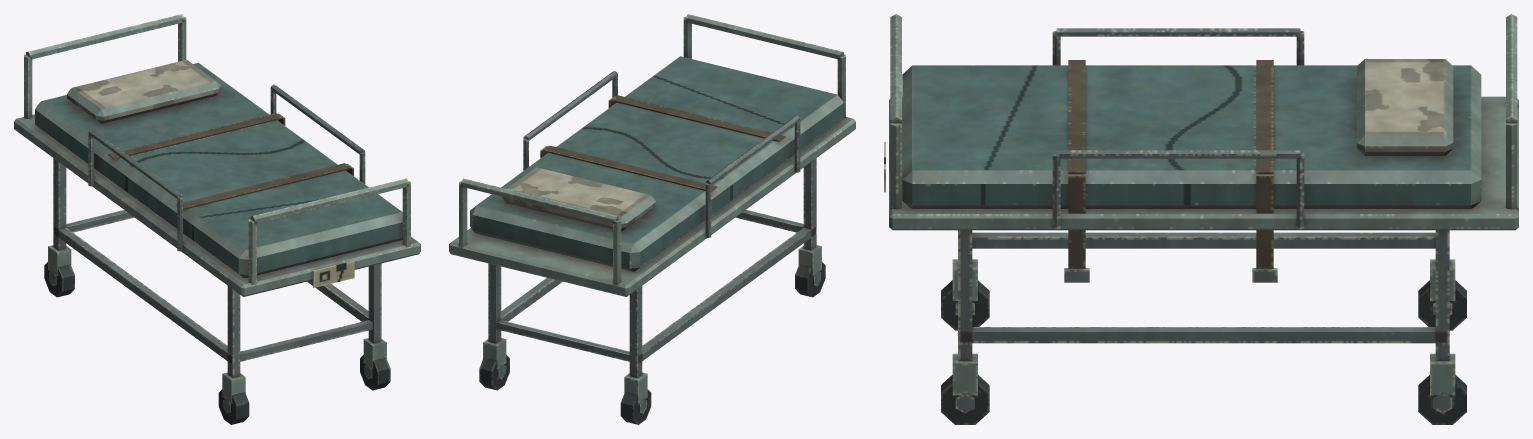
The model's file is Camilla.glb.
3 renders of one model, left to right at view 1: azimuth 30°, elevation 25°; view 2: azimuth 150°, elevation 25°; view 3: azimuth 270°, elevation 25°, orthographic. The views are drawn at different scales.
Visible parts, largest first — view 1: Camilla; view 2: Camilla; view 3: Camilla.
Boxes of the visible parts, x1,y1,x2,y2 form: Camilla: [14, 14, 420, 424]; Camilla: [449, 14, 855, 424]; Camilla: [884, 14, 1518, 424].
Size of the model in its own units: 2.93 by 3.35 by 6.25.
1 material, 1 textured.
